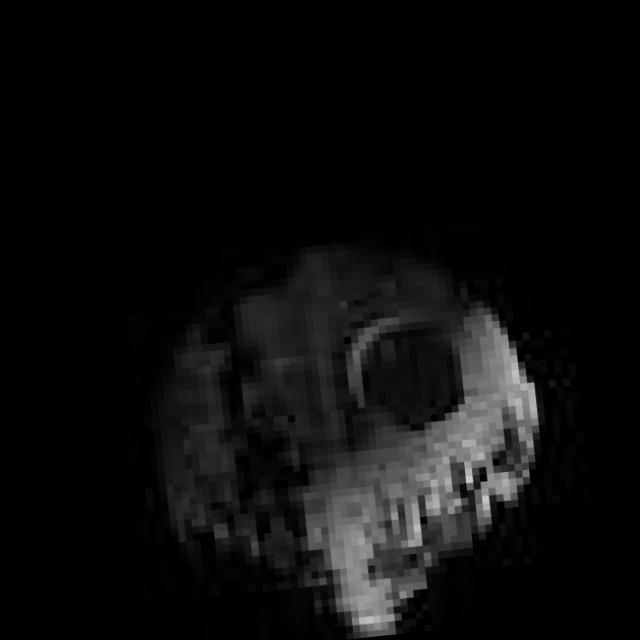Death Star: (113, 215, 573, 640)
